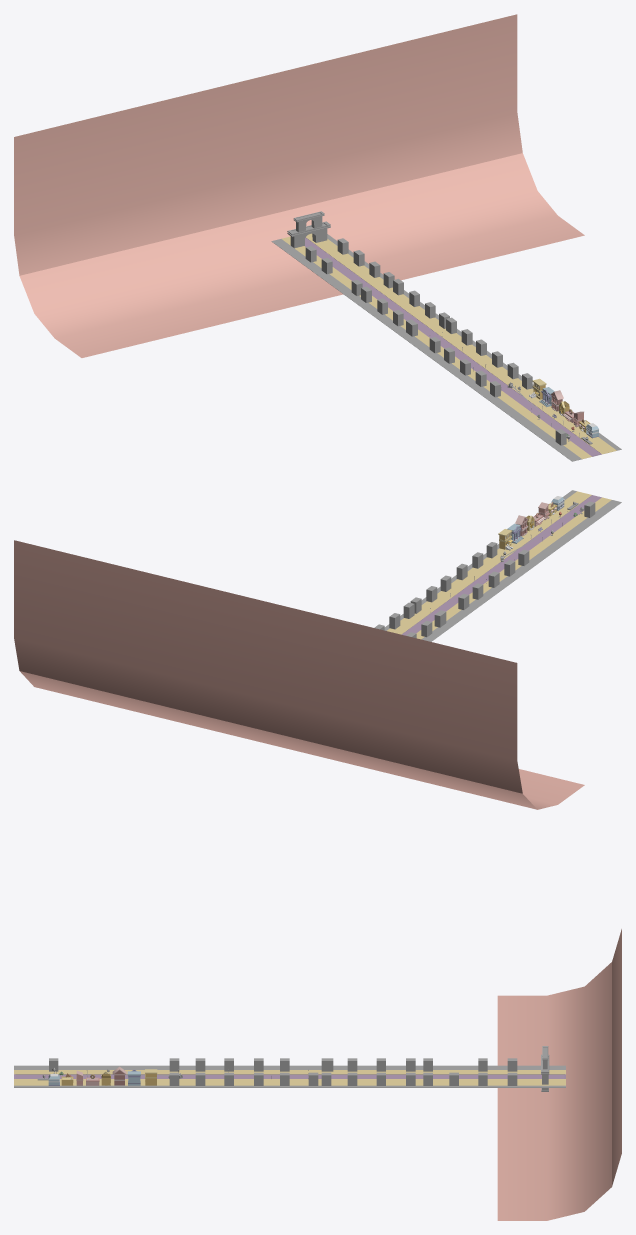
File: prueba.fbx
The picture shows the model from 3 angles, top to bottom: view 1: azimuth 30°, elevation 25°; view 2: azimuth 150°, elevation 25°; view 3: azimuth 270°, elevation 25°; orthographic projection. The views are drawn at different scales.
Visible parts, largest first — view 1: pCube62, pPlane1, pCube60; view 2: pCube62, pPlane1; view 3: pCube62, pPlane1.
Part boxes in pixels (box(x1,y1,x2,y2)): pCube62: box(14, 14, 584, 357); pPlane1: box(271, 233, 621, 461); pCube60: box(287, 221, 330, 248); pCube62: box(14, 540, 584, 809); pPlane1: box(384, 490, 621, 641); pCube62: box(497, 929, 621, 1220); pPlane1: box(14, 1065, 565, 1087).
Bounding box in the file's own units: 6952 × 2265 × 7928.
